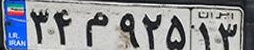character: (50, 5, 77, 48), (113, 10, 142, 50), (85, 7, 110, 50), (164, 9, 189, 50), (28, 4, 50, 48), (141, 9, 163, 50), (216, 21, 240, 50), (195, 20, 211, 50)
